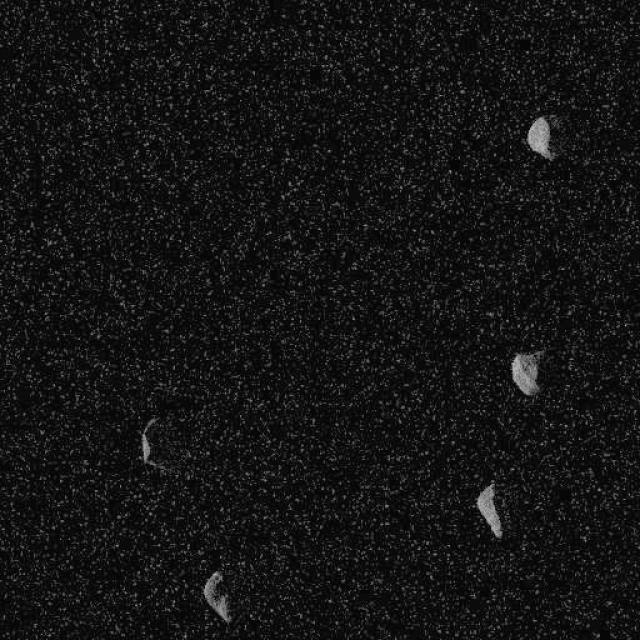D2: (473, 480, 502, 539), (202, 568, 232, 624), (510, 349, 544, 396), (139, 415, 165, 469), (525, 115, 553, 160)
